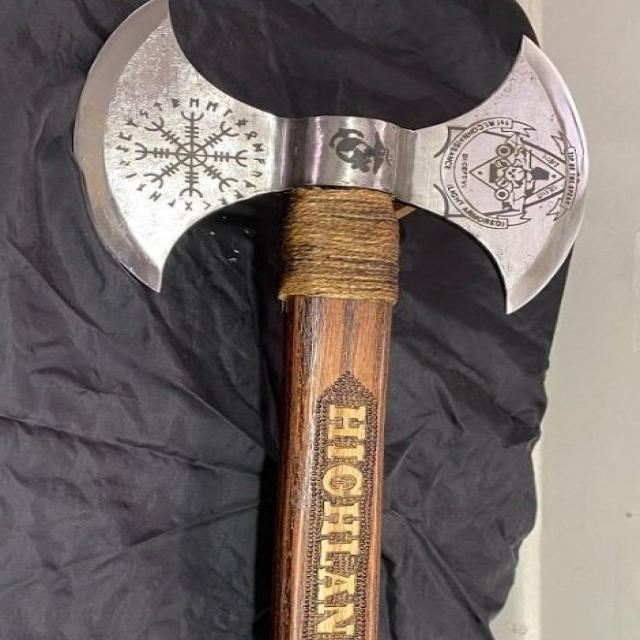Gun: (84, 0, 584, 640)
